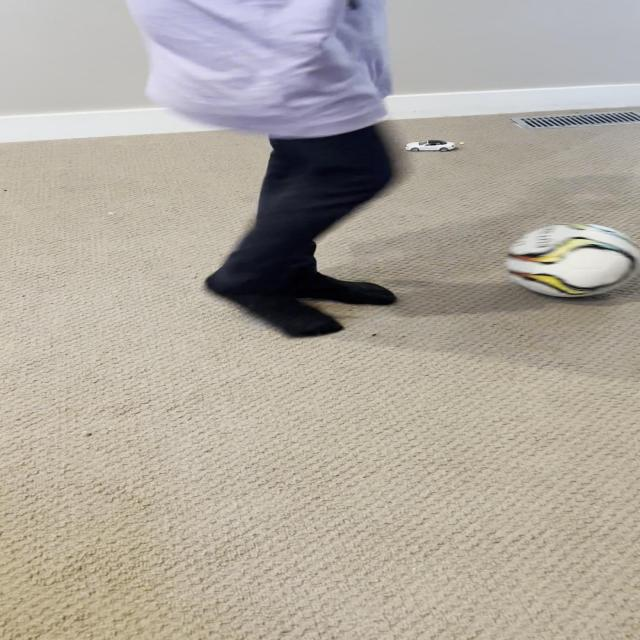Soccer Ball: (505, 222, 640, 298)
